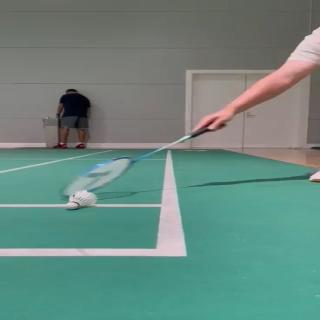Shuttle: (66, 190, 96, 210)
